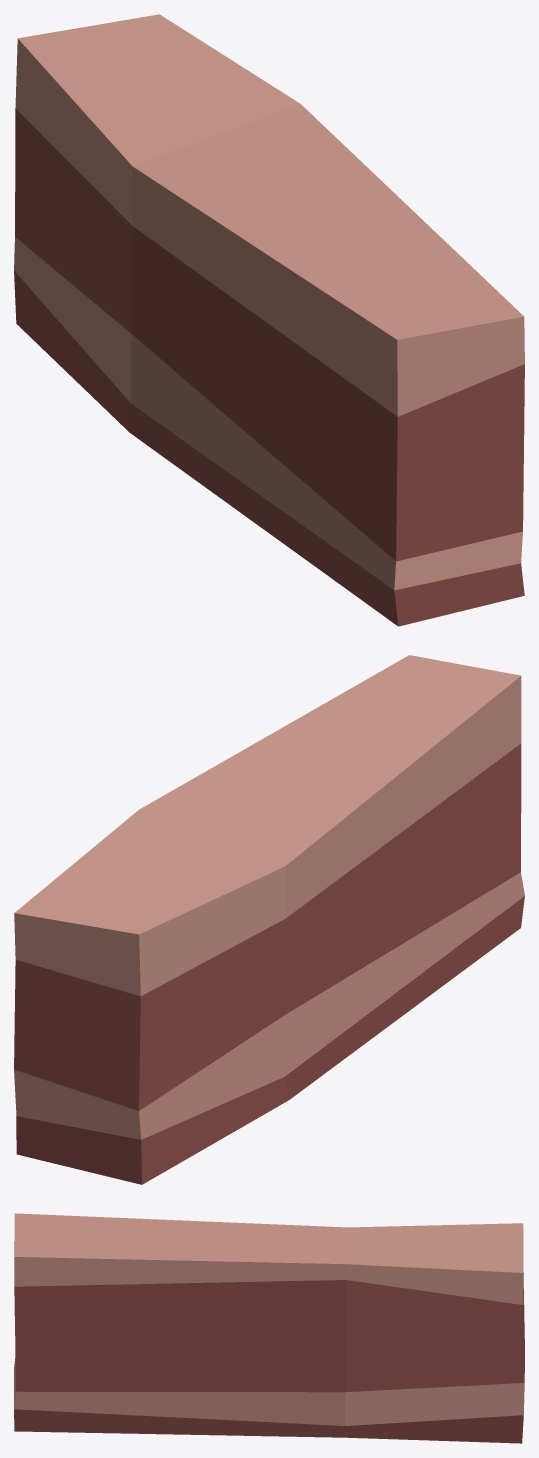
File: porkBellyCut03.fbx
The picture shows the model from 3 angles, top to bottom: view 1: azimuth 30°, elevation 25°; view 2: azimuth 150°, elevation 25°; view 3: azimuth 270°, elevation 25°; orthographic projection. The views are drawn at different scales.
Parts seen in each view (by area): view 1: porkBellyCut03; view 2: porkBellyCut03; view 3: porkBellyCut03.
Part boxes in pixels (left/top/right/bottom): porkBellyCut03: left=14, top=14, right=524, bottom=626; porkBellyCut03: left=14, top=655, right=524, bottom=1184; porkBellyCut03: left=14, top=1213, right=524, bottom=1443.
Size of the model in its own units: 6.02 by 9.61 by 24.74.
Materials: 1 (1 with a texture image).
